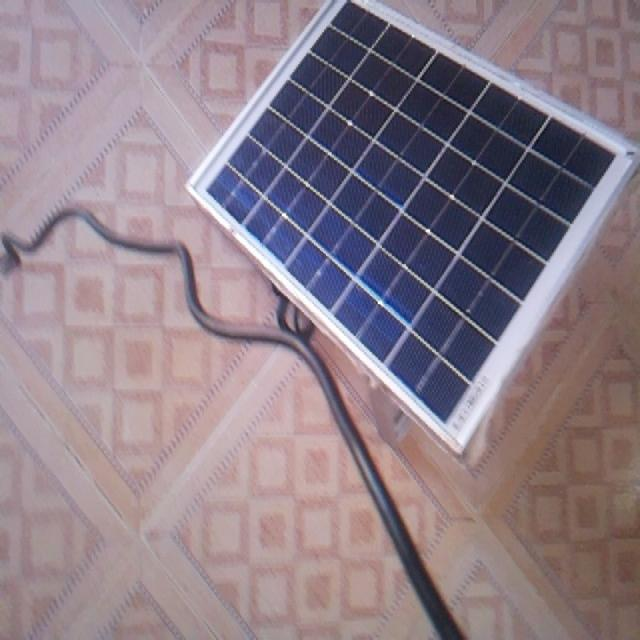Normal Solar Panel: (190, 0, 640, 457)
